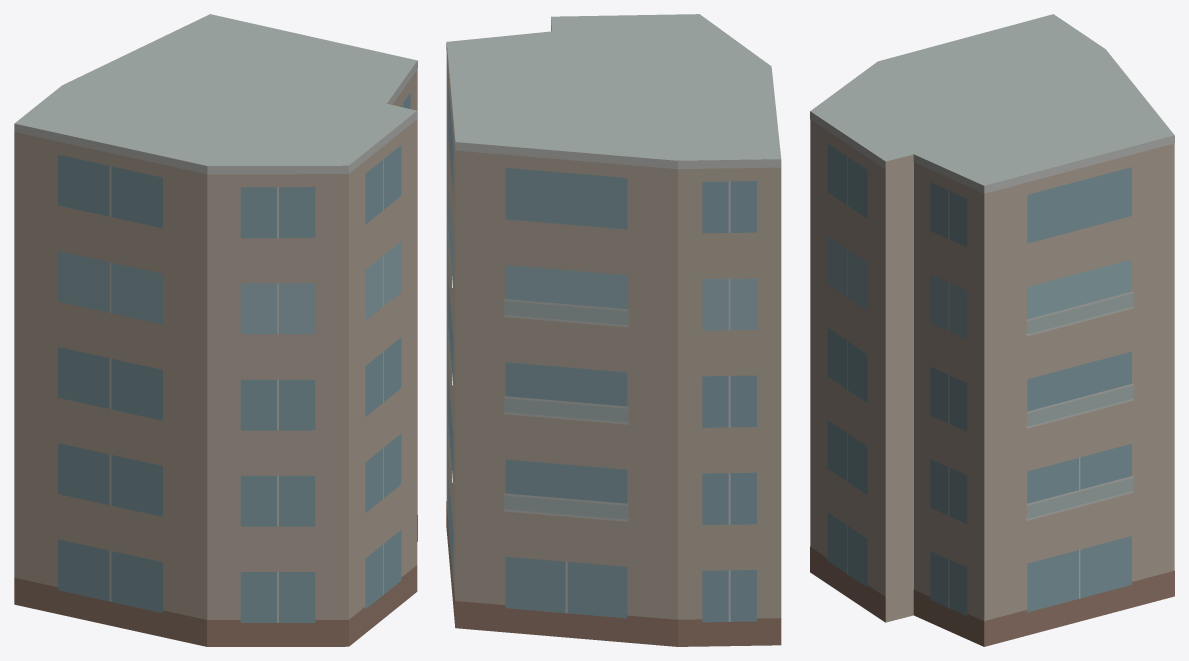
The model's file is survey-upis-32722510.glb.
3 renders of one model, left to right at view 1: azimuth 30°, elevation 25°; view 2: azimuth 150°, elevation 25°; view 3: azimuth 270°, elevation 25°, orthographic. The views are drawn at different scales.
Parts seen in each view (by area): view 1: survey-upis-32722510.tmp; view 2: survey-upis-32722510.tmp; view 3: survey-upis-32722510.tmp.
Boxes of the visible parts, box(x1,y1,x2,y2) form: survey-upis-32722510.tmp: box(14, 14, 417, 646); survey-upis-32722510.tmp: box(446, 14, 781, 646); survey-upis-32722510.tmp: box(810, 14, 1174, 646).
Size of the model in its own units: 11.28 by 14.1 by 10.11.
